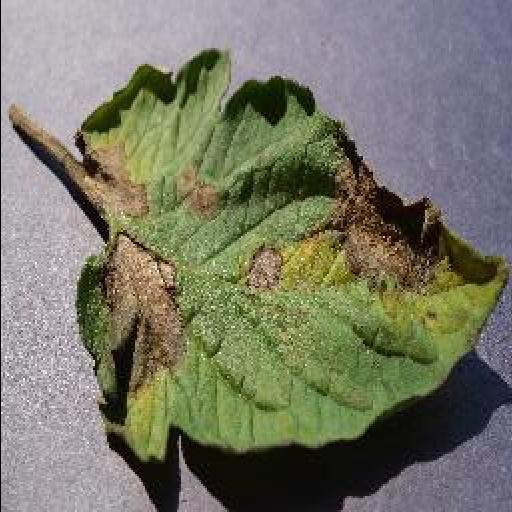disease_tomato: (76, 48, 512, 464)
